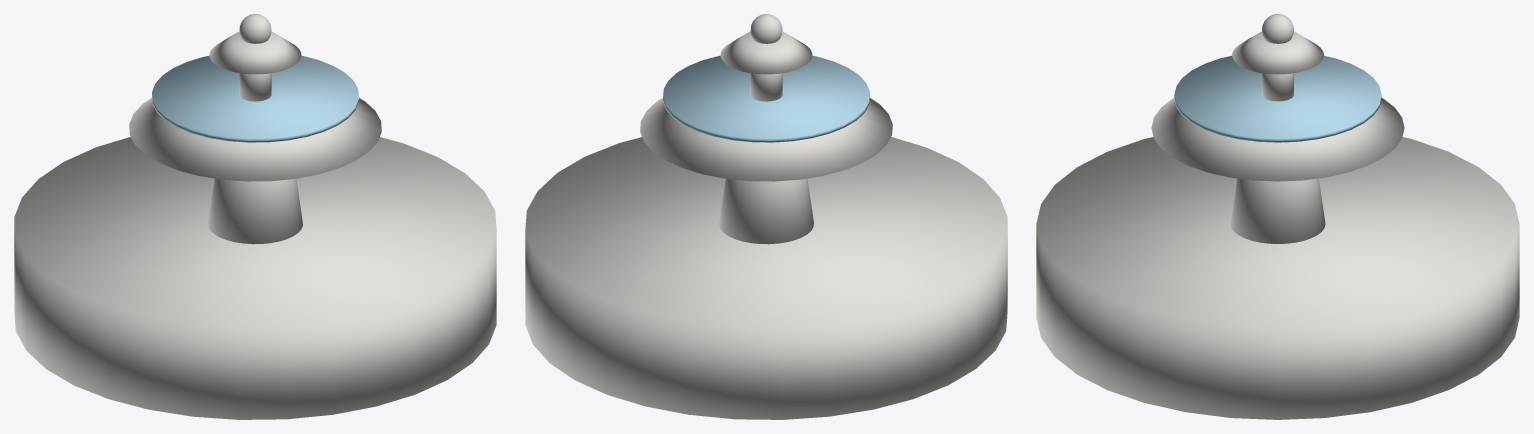
File: fxfountain.glb
3 views of the same model, side by side, from view 1: azimuth 30°, elevation 25°; view 2: azimuth 150°, elevation 25°; view 3: azimuth 270°, elevation 25° (orthographic).
Parts seen in each view (by area): view 1: basin, bowl_water, bowl, pedestal, top, stem, finial; view 2: basin, bowl_water, bowl, pedestal, top, stem, finial; view 3: basin, bowl_water, bowl, pedestal, top, stem, finial.
Part boxes in pixels (left/top/right/bottom): basin: left=14, top=137, right=496, bottom=419; bowl_water: left=152, top=55, right=358, bottom=142; bowl: left=129, top=97, right=381, bottom=181; pedestal: left=208, top=178, right=302, bottom=244; top: left=209, top=31, right=301, bottom=74; stem: left=239, top=73, right=271, bottom=101; finial: left=239, top=14, right=271, bottom=43; basin: left=525, top=137, right=1007, bottom=419; bowl_water: left=663, top=55, right=869, bottom=142; bowl: left=640, top=97, right=892, bottom=181; pedestal: left=719, top=178, right=813, bottom=244; top: left=720, top=31, right=812, bottom=74; stem: left=750, top=73, right=782, bottom=101; finial: left=750, top=14, right=782, bottom=43; basin: left=1036, top=137, right=1519, bottom=419; bowl_water: left=1174, top=55, right=1381, bottom=142; bowl: left=1151, top=98, right=1404, bottom=181; pedestal: left=1230, top=178, right=1325, bottom=243; top: left=1232, top=31, right=1323, bottom=74; stem: left=1262, top=73, right=1293, bottom=101; finial: left=1262, top=14, right=1293, bottom=43.
Size of the model in its own units: 2.1 by 1.45 by 2.1.
